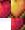heart: (0, 0, 11, 18), (11, 18, 25, 30)
